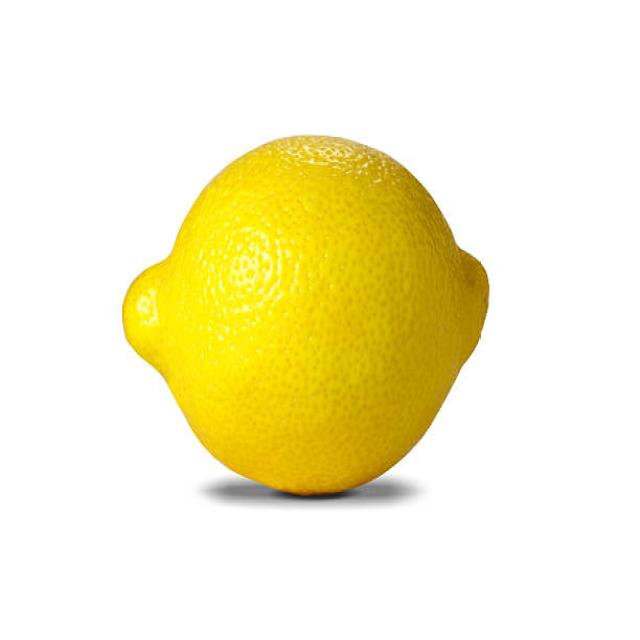Lemon: (120, 131, 492, 498)
